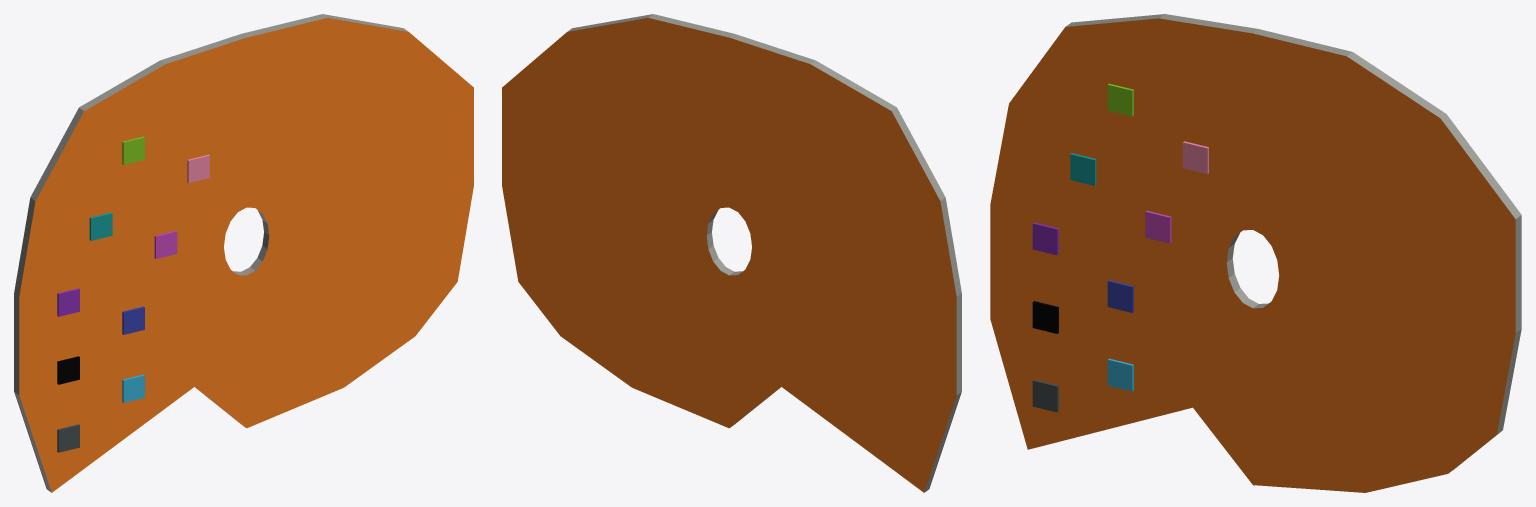
File: item_palette9.obj
The picture shows the model from 3 angles, left to right: view 1: azimuth 30°, elevation 25°; view 2: azimuth 150°, elevation 25°; view 3: azimuth 330°, elevation 25°; orthographic projection. The views are drawn at different scales.
Visible parts, largest first — view 1: wooden_palette_with_open_thumb_hole_and_grip_notch, native_cumulative_paint_state; view 2: wooden_palette_with_open_thumb_hole_and_grip_notch; view 3: wooden_palette_with_open_thumb_hole_and_grip_notch, native_cumulative_paint_state.
Part boxes in pixels (left/top/right/bottom): wooden_palette_with_open_thumb_hole_and_grip_notch: left=14, top=14, right=473, bottom=492; native_cumulative_paint_state: left=57, top=136, right=209, bottom=452; wooden_palette_with_open_thumb_hole_and_grip_notch: left=502, top=14, right=961, bottom=492; wooden_palette_with_open_thumb_hole_and_grip_notch: left=990, top=14, right=1521, bottom=492; native_cumulative_paint_state: left=1032, top=83, right=1208, bottom=412.
Size of the model in its own units: 0.875 by 0.75 by 0.0219.
